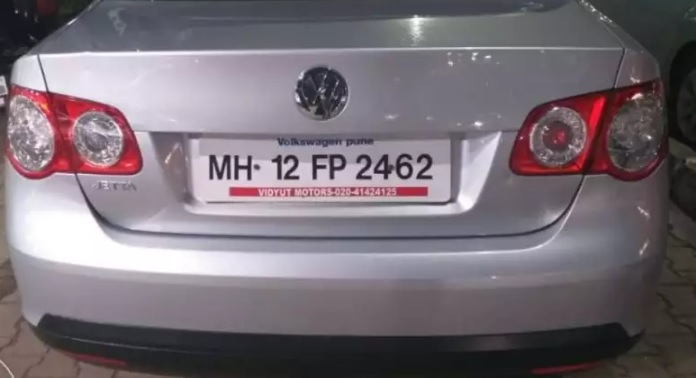licenseplate: (185, 135, 454, 204)
